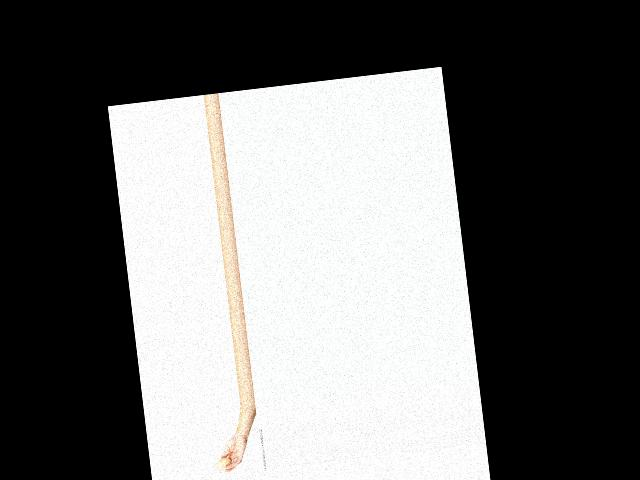egg: (214, 456, 232, 471)
